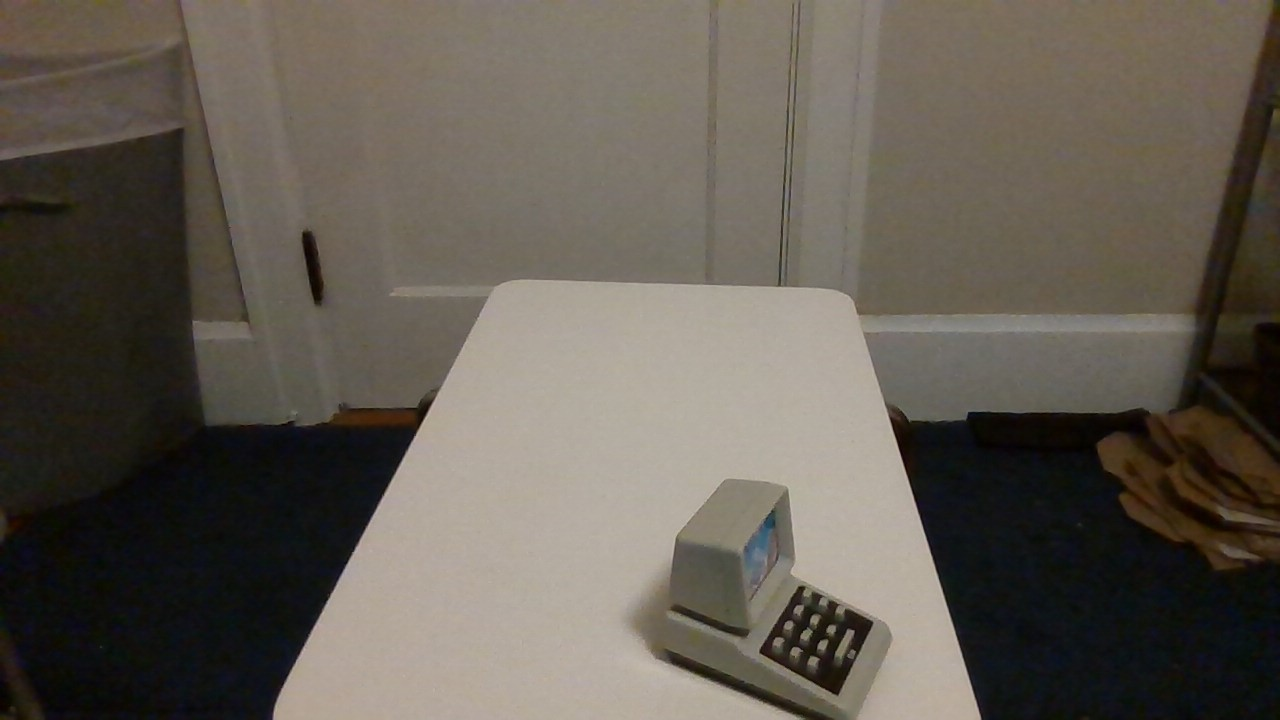Toy: (565, 438, 907, 720)
